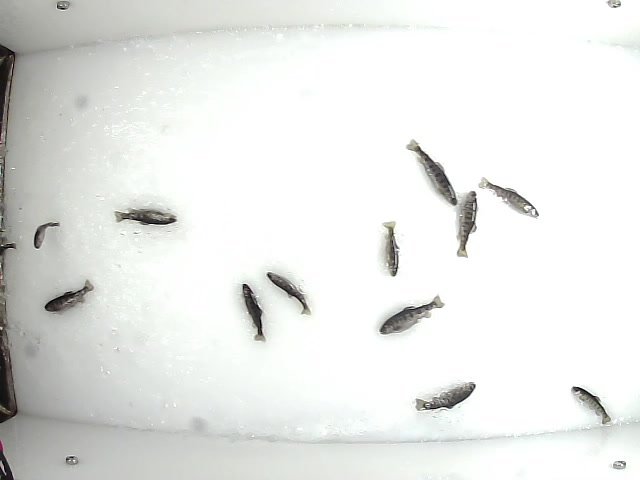fish: (404, 136, 461, 210), (377, 293, 447, 338), (478, 176, 541, 221), (264, 270, 314, 318), (413, 379, 478, 413), (451, 187, 480, 261), (569, 384, 615, 427), (41, 277, 94, 314), (240, 279, 268, 344), (112, 206, 179, 227), (381, 220, 404, 278), (30, 218, 62, 251)
